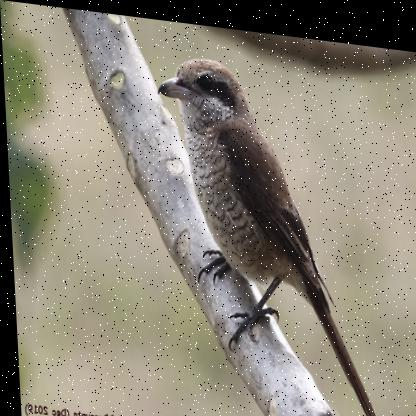Burung: (154, 46, 382, 415)
